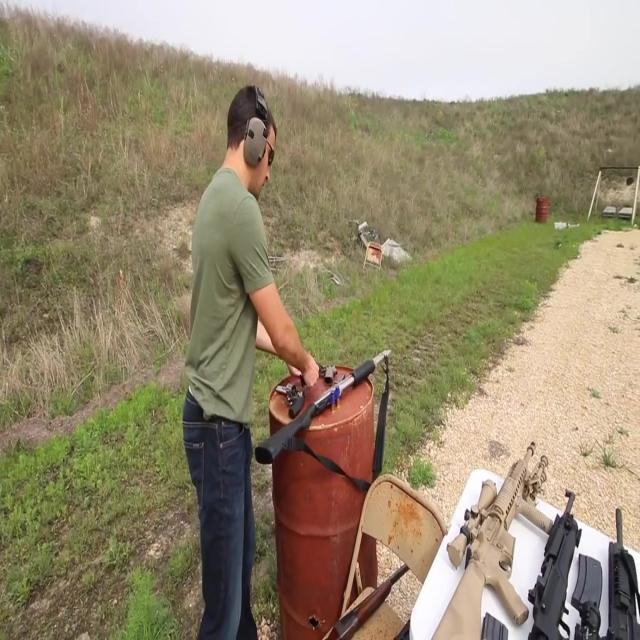Weapon: (425, 409, 640, 640), (233, 342, 402, 465), (309, 540, 416, 640)
